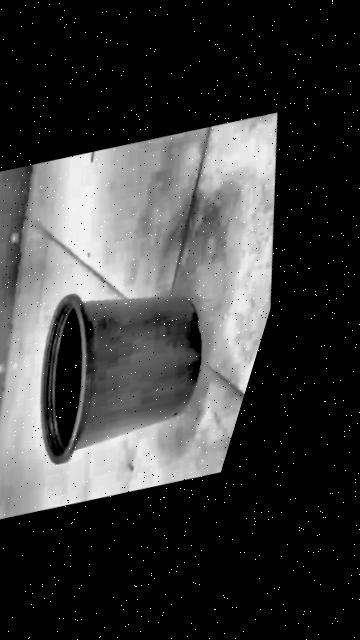pot: (40, 293, 201, 463)
